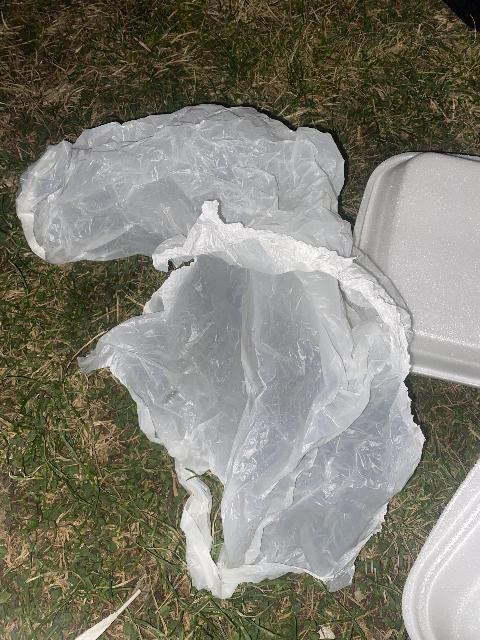Plastik: (22, 111, 406, 583)
